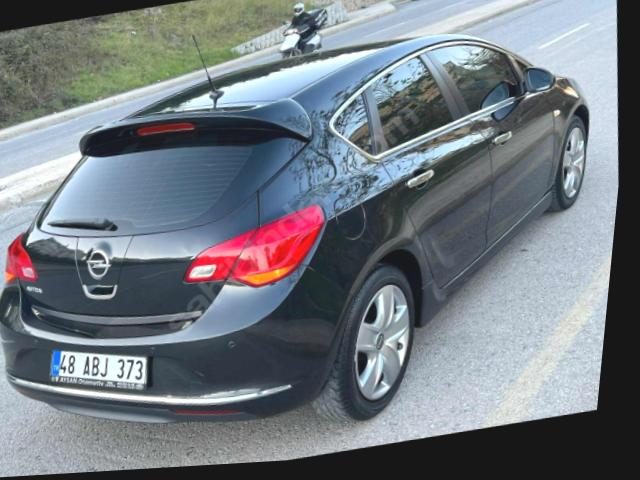plaka: (50, 350, 148, 391)
